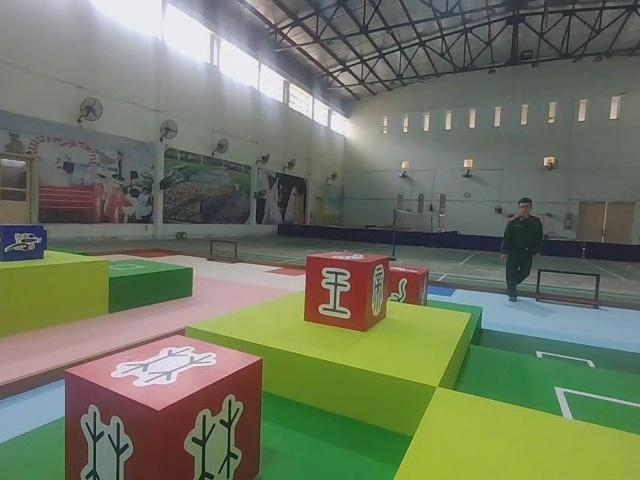R2 Fake: (305, 251, 389, 330)
R2 Real: (65, 334, 263, 480), (385, 263, 430, 309)
